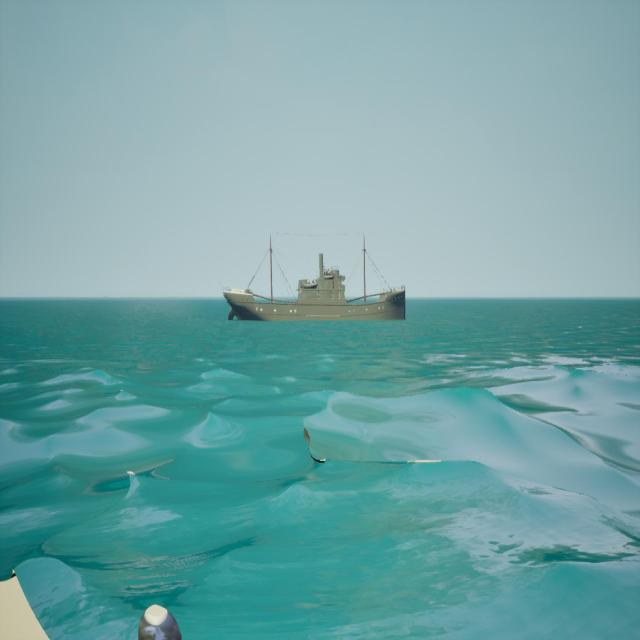fishing ship: (226, 241, 406, 323)
